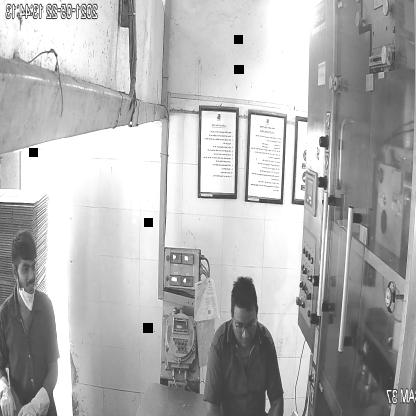goggles: (229, 309, 260, 337)
no_goggles: (12, 258, 38, 281)
